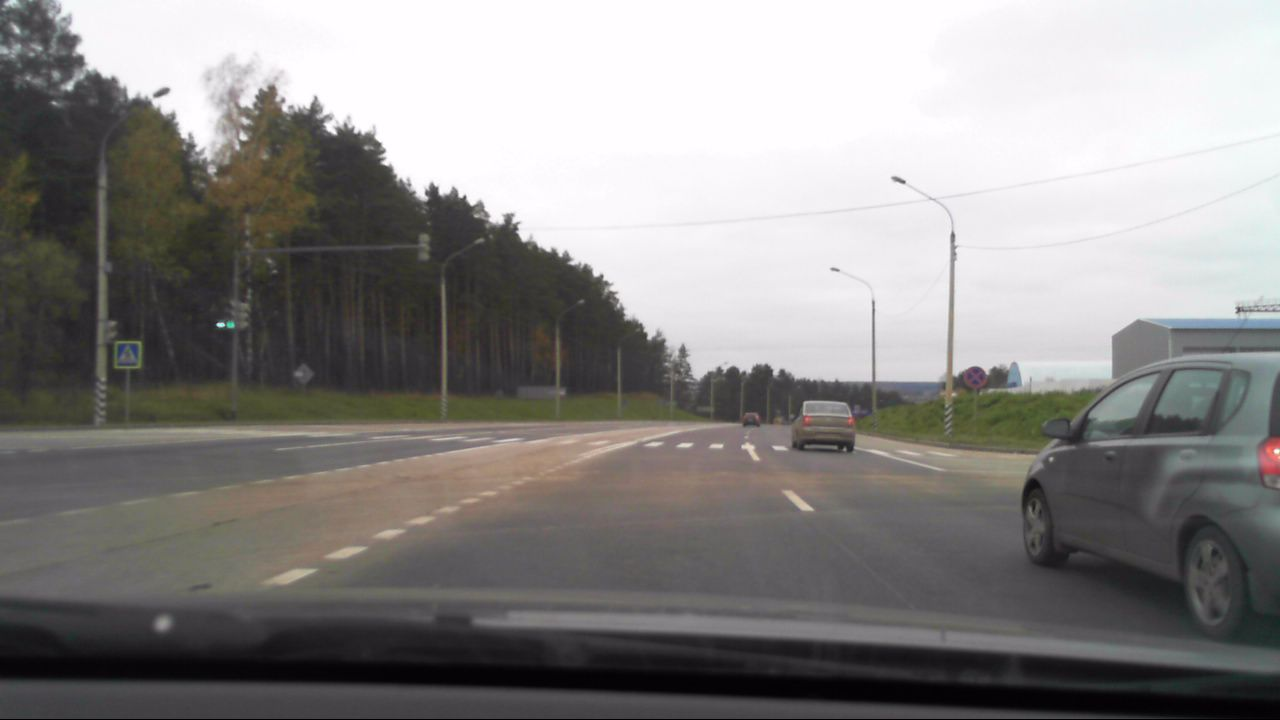No Parking: (964, 363, 992, 391)
